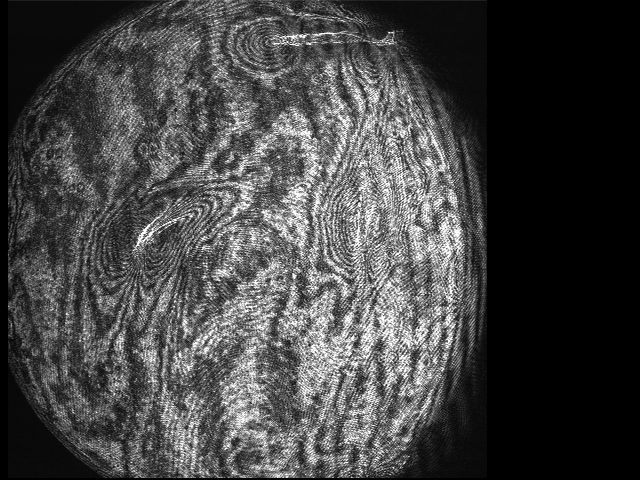plume: (92, 185, 226, 285)
